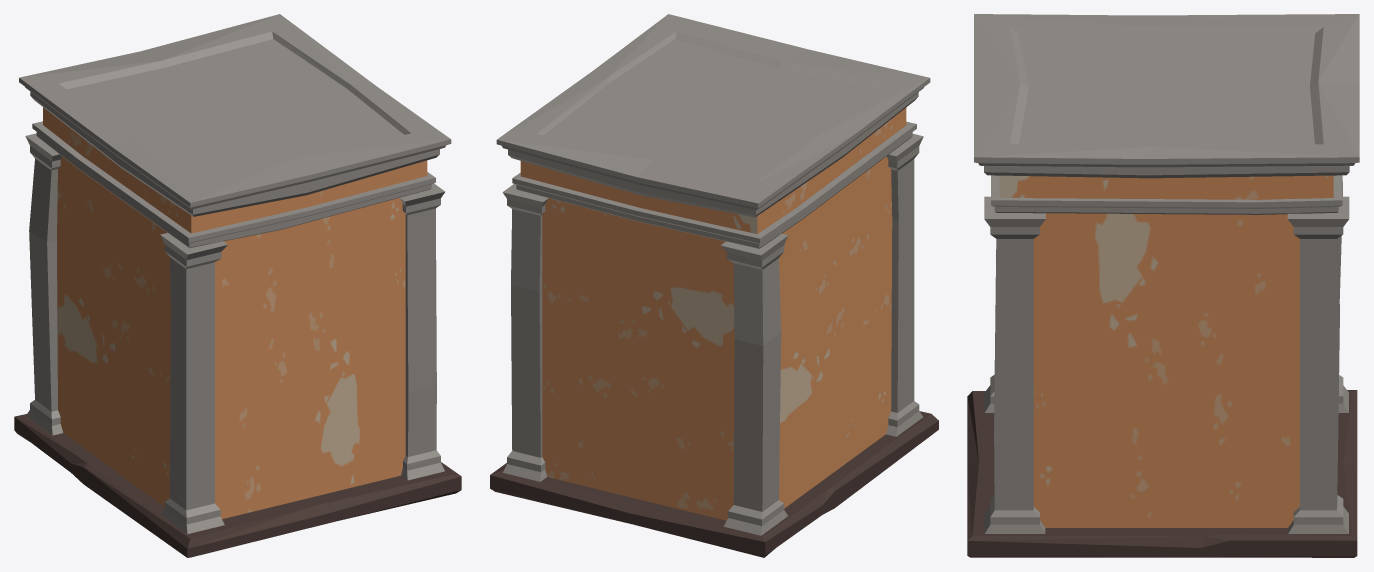
File: SM_Bld_Cuba_Hall_Room_03.glb
The picture shows the model from 3 angles, left to right: view 1: azimuth 30°, elevation 25°; view 2: azimuth 150°, elevation 25°; view 3: azimuth 270°, elevation 25°; orthographic projection. The views are drawn at different scales.
Visible parts, largest first — view 1: SM_Bld_Cuba_Hall_Room_03_part00; view 2: SM_Bld_Cuba_Hall_Room_03_part00; view 3: SM_Bld_Cuba_Hall_Room_03_part00.
Boxes of the visible parts, x1=… form: SM_Bld_Cuba_Hall_Room_03_part00: x1=14, y1=14, x2=461, y2=557; SM_Bld_Cuba_Hall_Room_03_part00: x1=490, y1=14, x2=938, y2=557; SM_Bld_Cuba_Hall_Room_03_part00: x1=967, y1=14, x2=1359, y2=557.
Size of the model in its own units: 3.59 by 4.42 by 3.94.
Materials: 1 (1 with a texture image).
